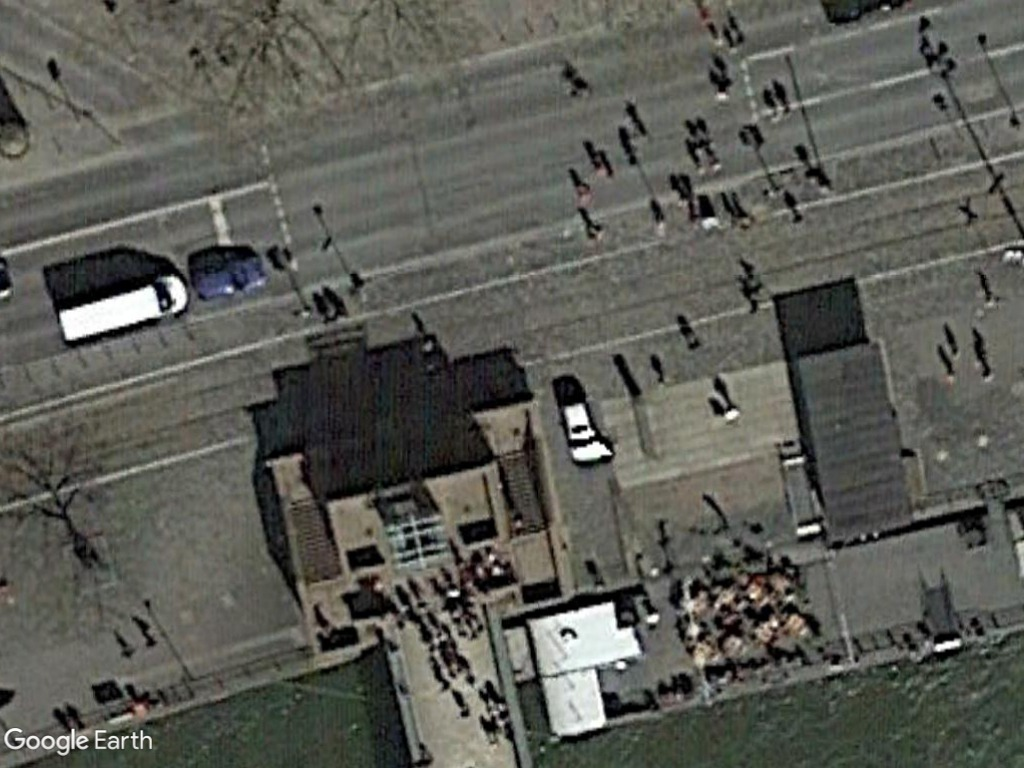van: (48, 266, 195, 355)
